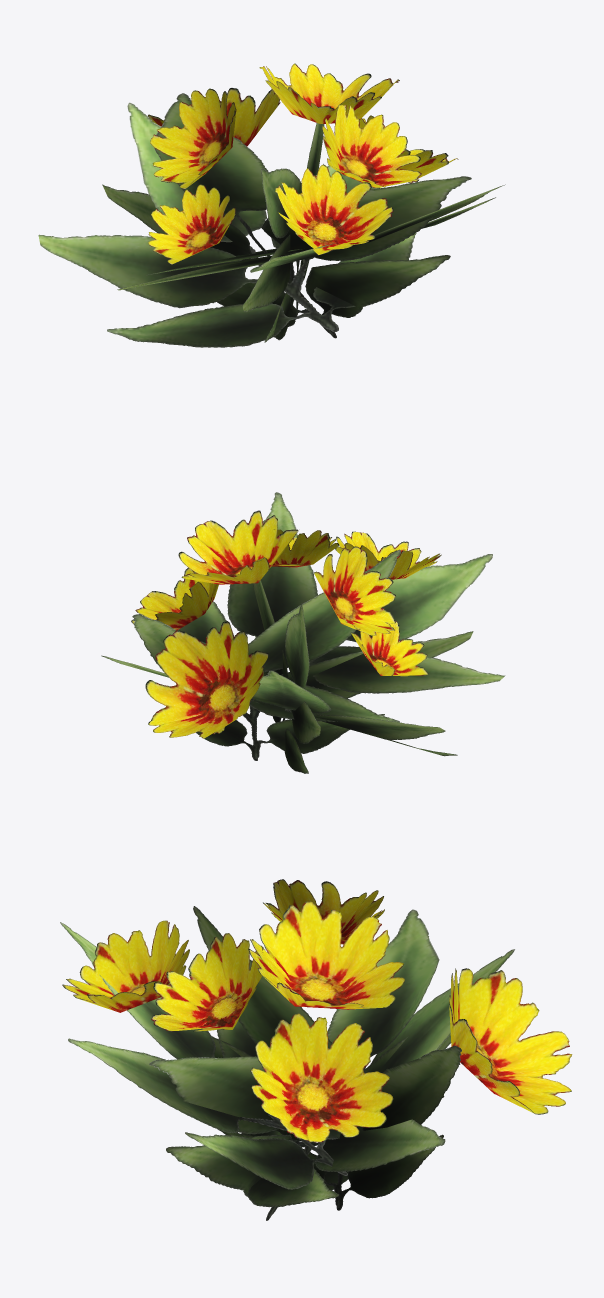
Rendered from flower_shrub_yellow_2m.DAE.
The picture shows the model from 3 angles, top to bottom: view 1: azimuth 30°, elevation 25°; view 2: azimuth 150°, elevation 25°; view 3: azimuth 270°, elevation 25°; orthographic projection. The views are drawn at different scales.
Visible parts, largest first — view 1: Plane01; view 2: Plane01; view 3: Plane01.
Part boxes in pixels (x1,y1,x2,y2): Plane01: [38, 63, 505, 347]; Plane01: [101, 492, 505, 773]; Plane01: [60, 879, 572, 1220].
Size of the model in its own units: 2.65 by 1.41 by 2.3.
